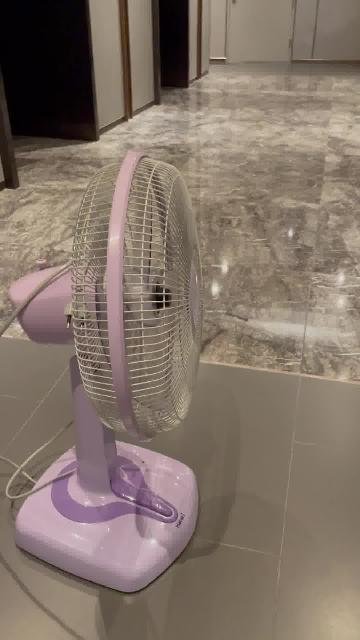Fan: (9, 150, 203, 594)
